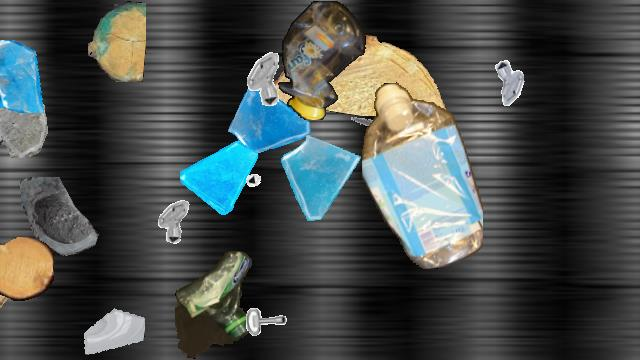glass: (17, 177, 111, 271), (275, 133, 367, 225), (227, 76, 315, 164), (180, 137, 258, 215), (83, 296, 145, 358), (0, 84, 51, 158), (0, 40, 49, 112)
metal: (233, 50, 291, 108), (240, 303, 296, 359), (488, 57, 536, 105), (147, 196, 195, 244), (346, 104, 390, 148), (243, 156, 281, 194)
plastic: (362, 81, 482, 269), (277, 1, 367, 119), (175, 249, 253, 359), (0, 114, 6, 242)
wood: (271, 35, 457, 115), (88, 1, 146, 81), (0, 237, 53, 301), (0, 234, 13, 322)
